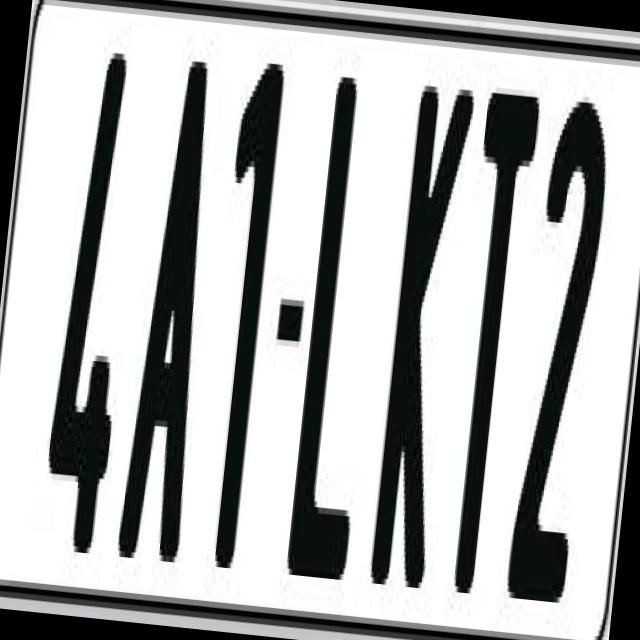1: (188, 48, 284, 568)
2: (506, 82, 626, 598)
4: (37, 32, 155, 554)
A: (114, 46, 237, 586)
K: (368, 68, 481, 594)
L: (279, 58, 394, 597)
T: (434, 92, 544, 625)
